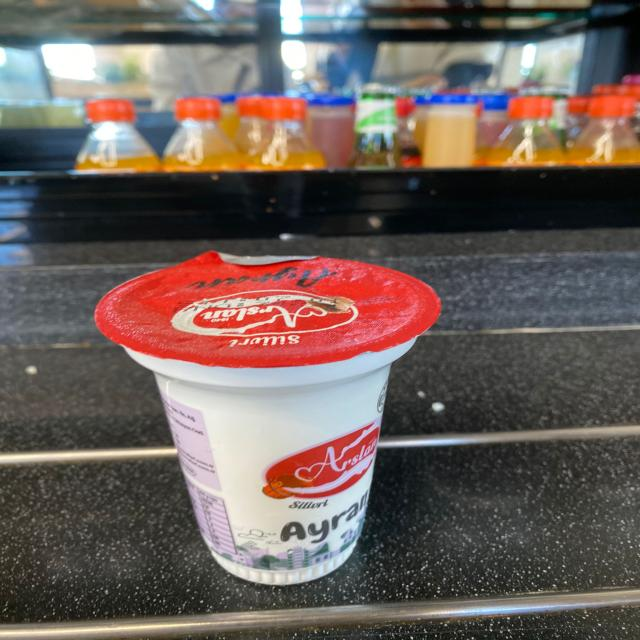yan_yemek: (92, 249, 442, 586)
